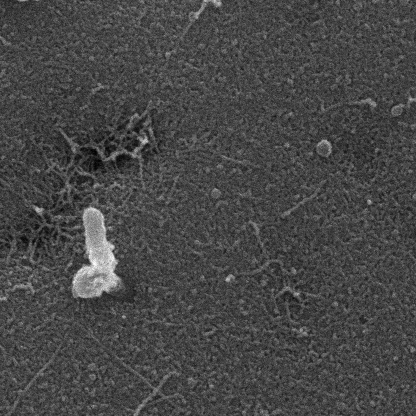cell2surface: (184, 0, 247, 32)
regular: (82, 210, 115, 269)
spheroplast: (72, 261, 115, 297)
